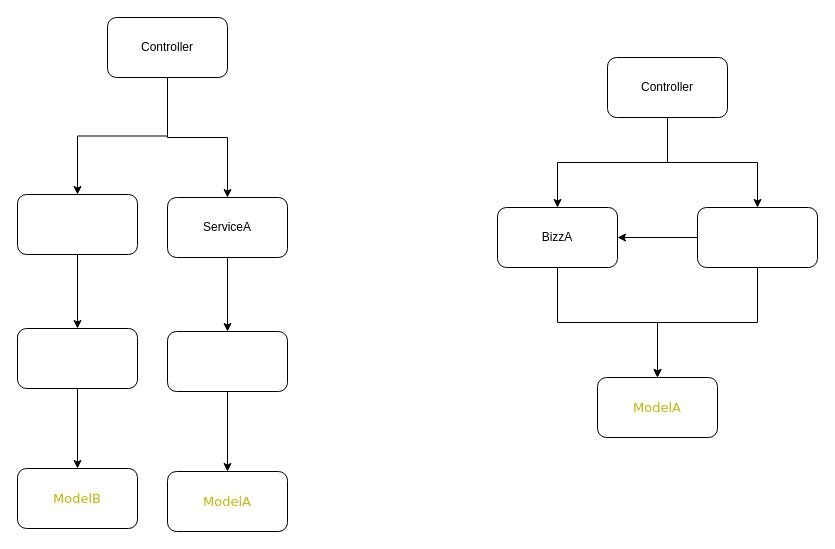
Some shapes in this 835 by 549 pixel diagram are drawn without their labels. The centre of each missing label's shape, as x and y in pixels:
EntityA: point (227, 361)
EntityB: point (77, 358)
ResourceA: point (757, 237)
ServiceB: point (77, 224)
